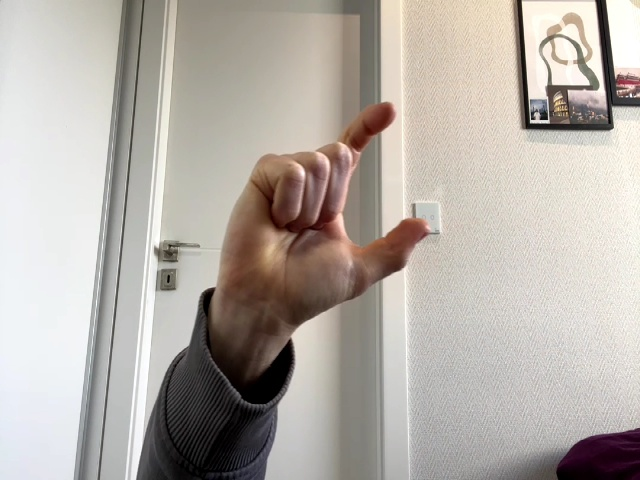C: (219, 101, 429, 324)
